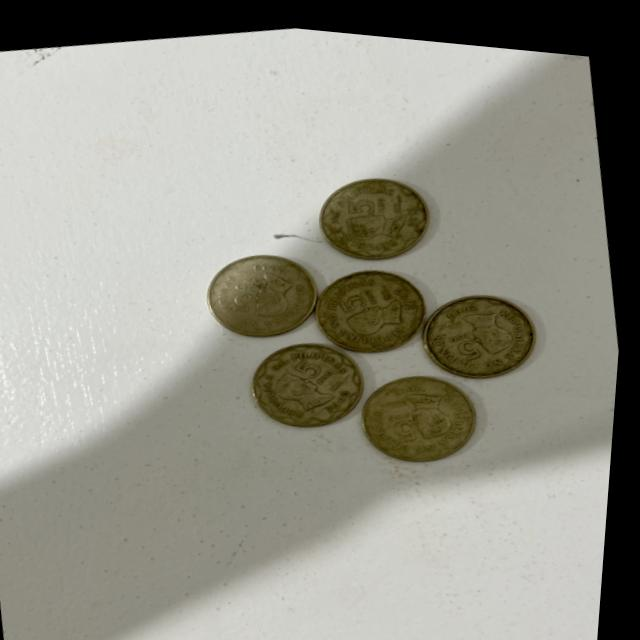5_Old_Front: (290, 342, 352, 386), (383, 395, 434, 444), (446, 314, 493, 357), (342, 179, 396, 216), (334, 274, 387, 309), (230, 271, 269, 313)
